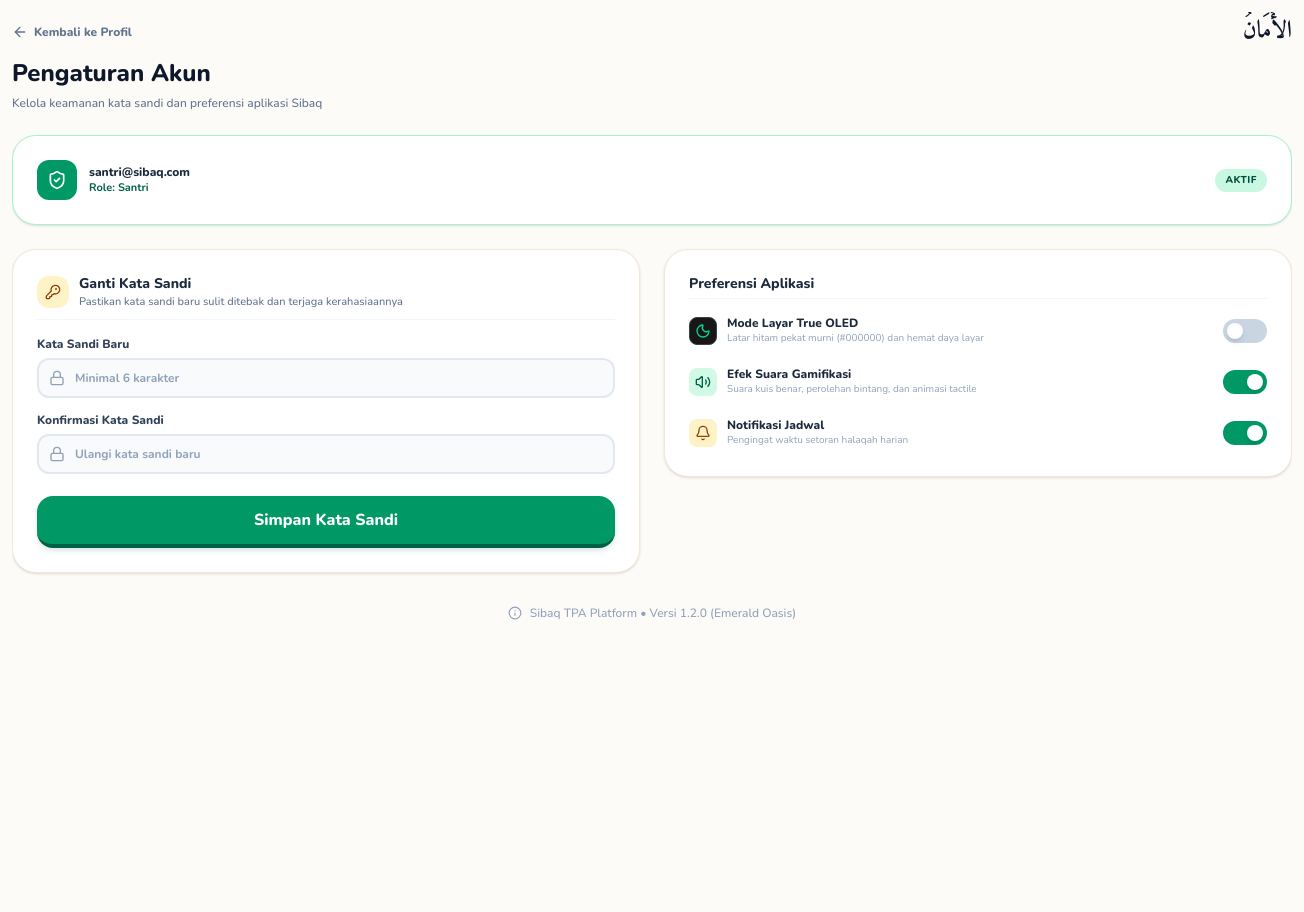
SettingsPage Component › validates password length and matching passwords
# Try too short password
In the password field labelled "Kata Sandi Baru": (326,378) x1=37 y1=358 x2=615 y2=398, type "123"
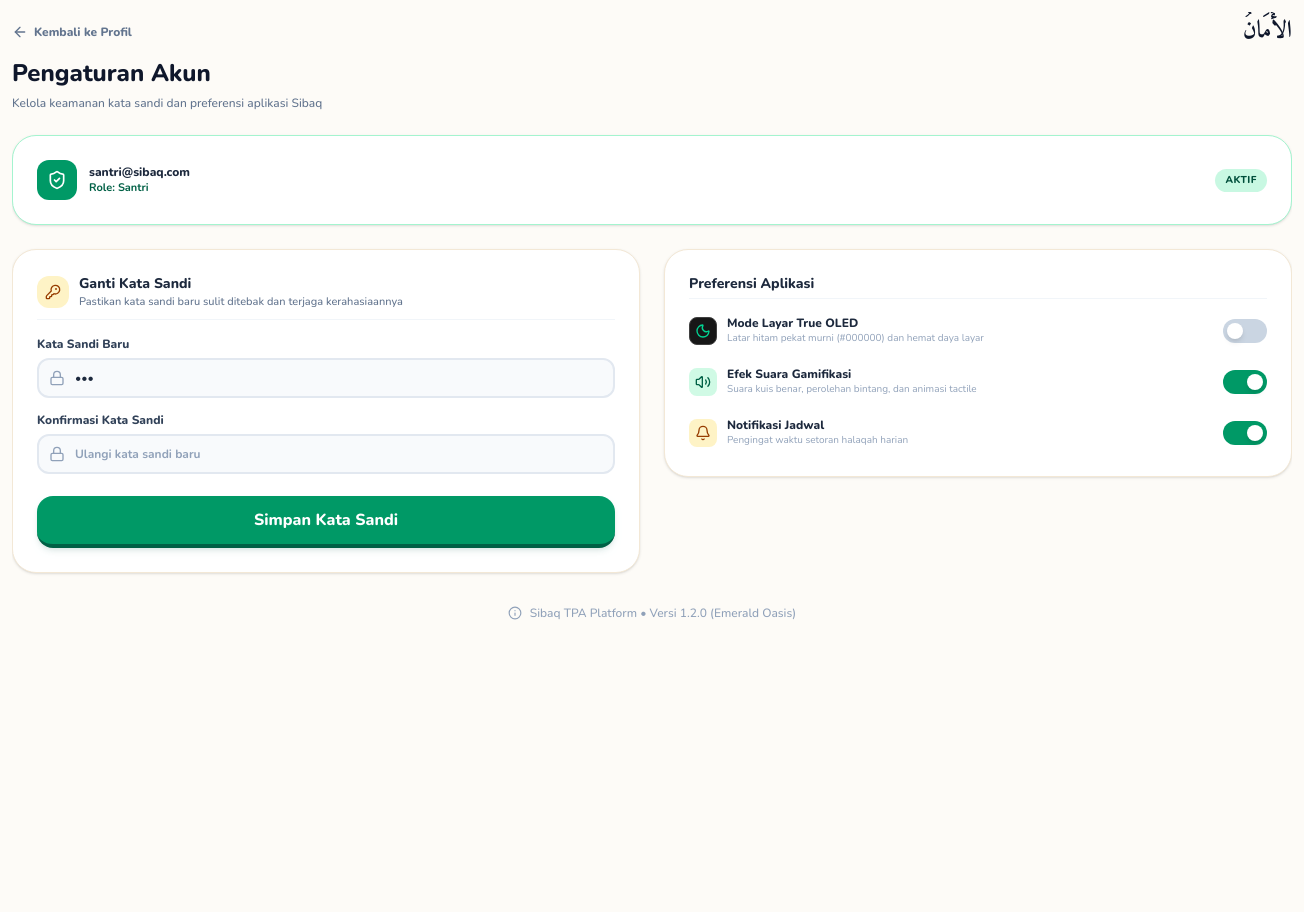
In the password field labelled "Konfirmasi Kata Sandi": (326,454) x1=37 y1=434 x2=615 y2=474, type "123"
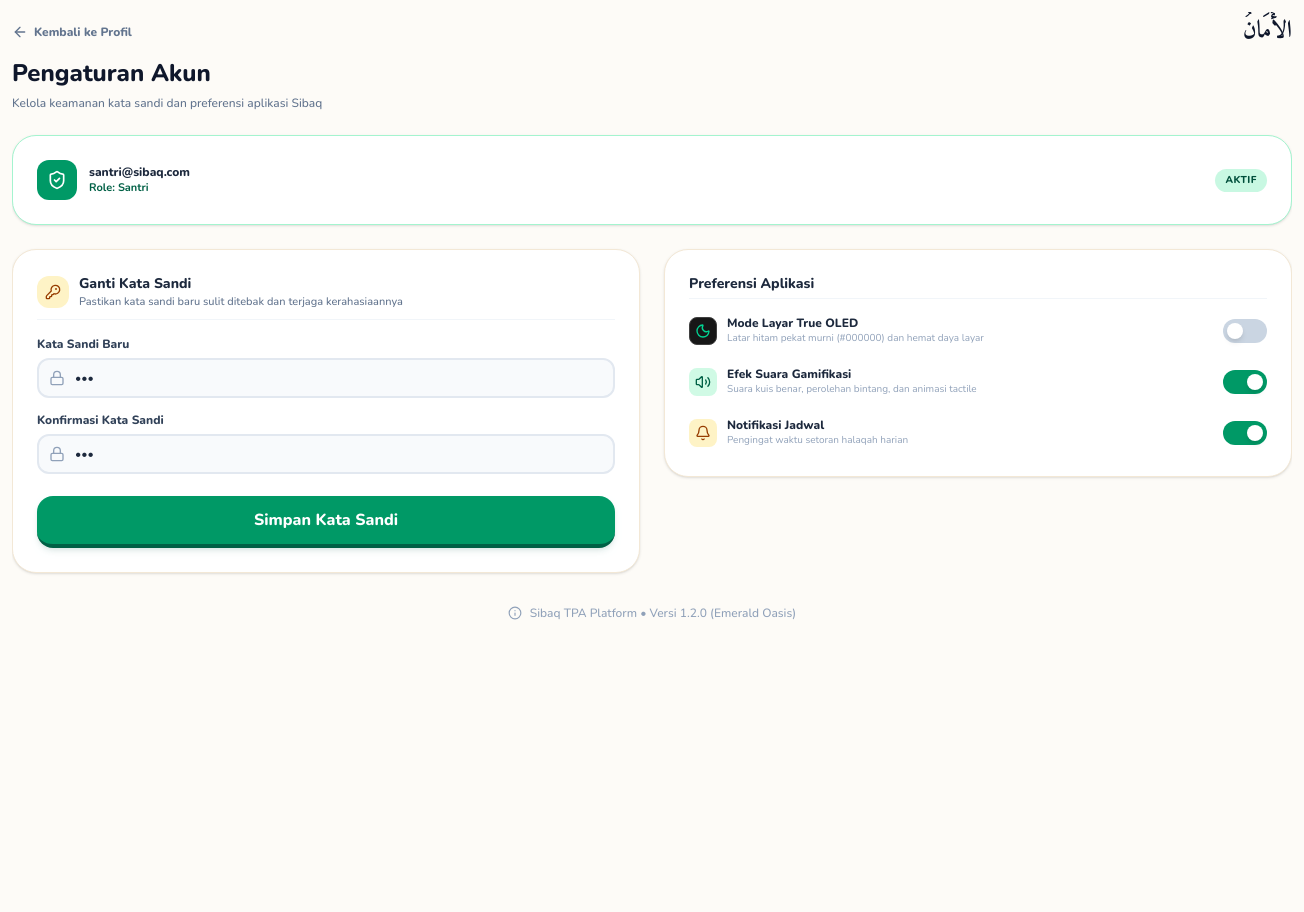
Click the button "Simpan Kata Sandi": (326,522) x1=37 y1=496 x2=615 y2=548
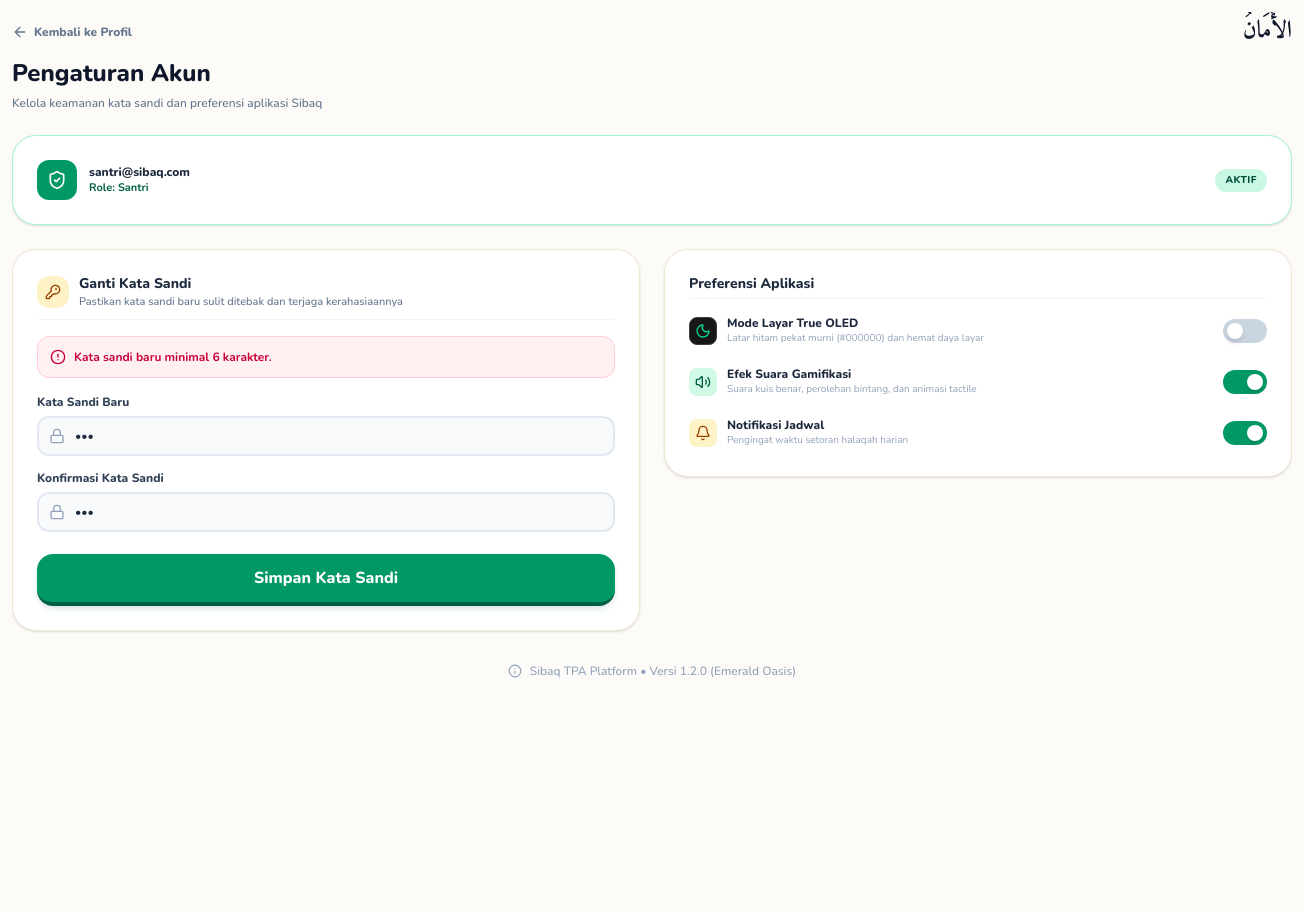
Expected: the text "Kata sandi baru minimal 6 karakter." is shown, x1=74 y1=348 x2=272 y2=364
# Try mismatched passwords
In the password field labelled "Kata Sandi Baru": (326,436) x1=37 y1=416 x2=615 y2=456, type "password123"
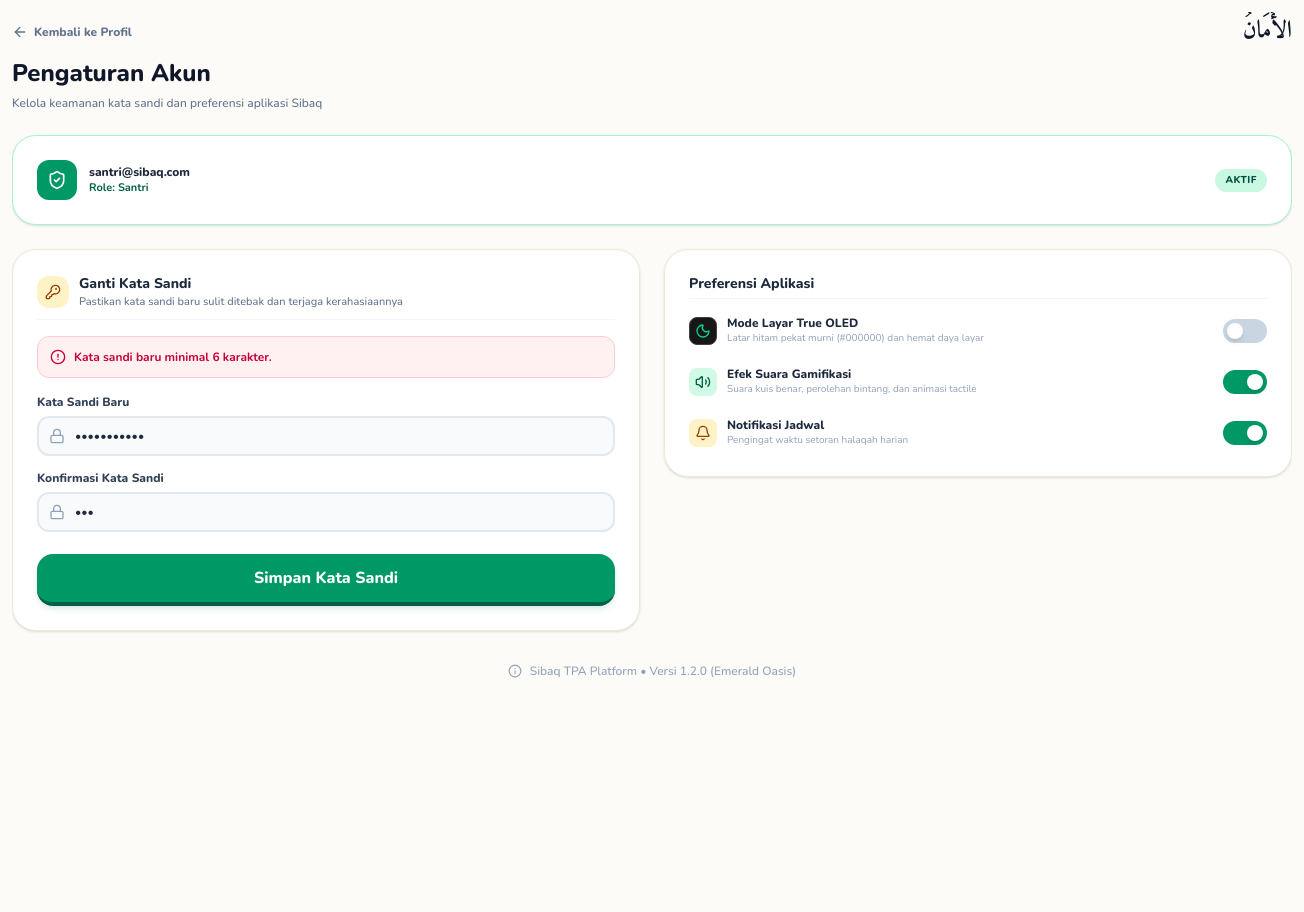
In the password field labelled "Konfirmasi Kata Sandi": (326,512) x1=37 y1=492 x2=615 y2=532, type "password456"
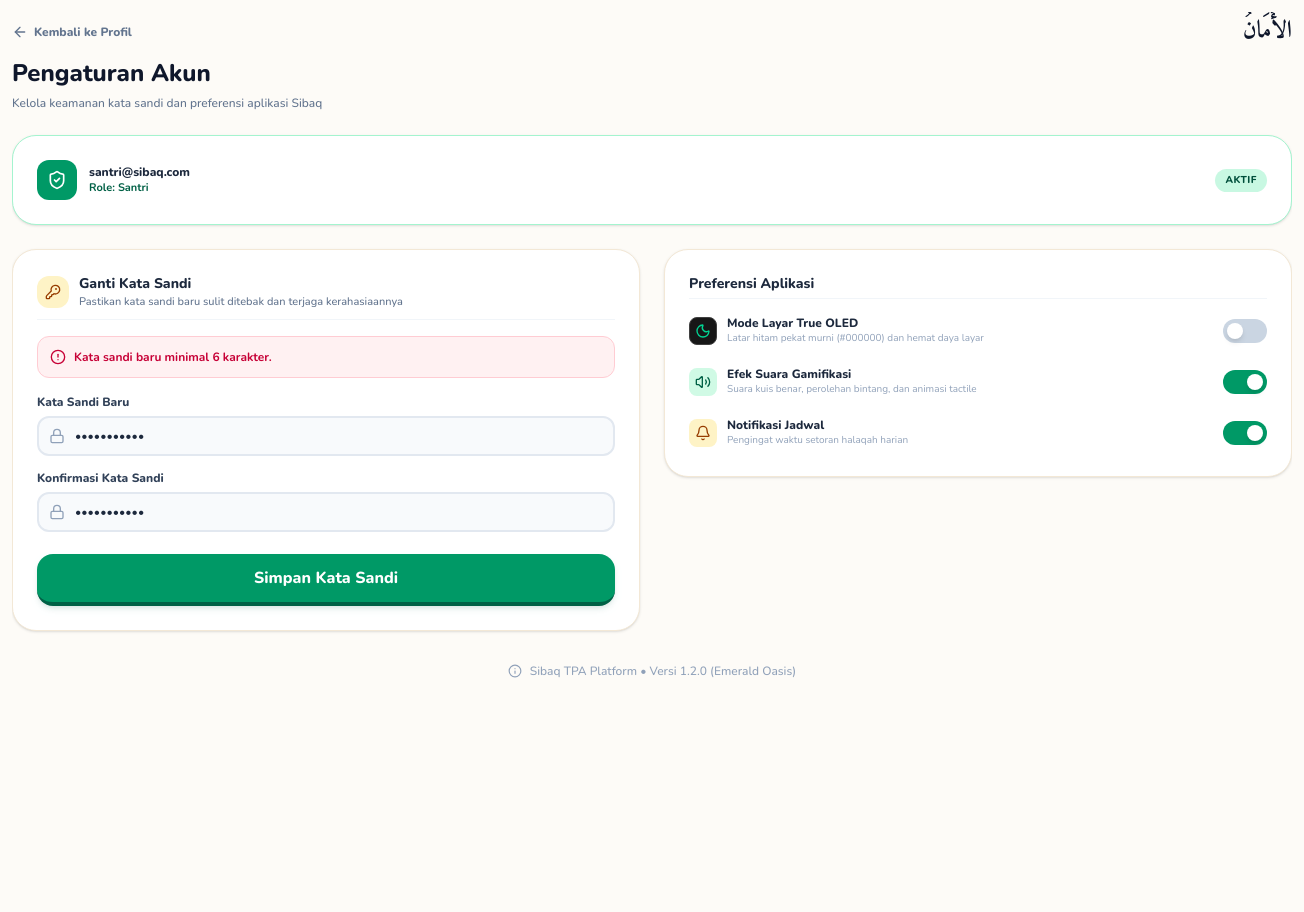
Click the button "Simpan Kata Sandi": (326,580) x1=37 y1=554 x2=615 y2=606
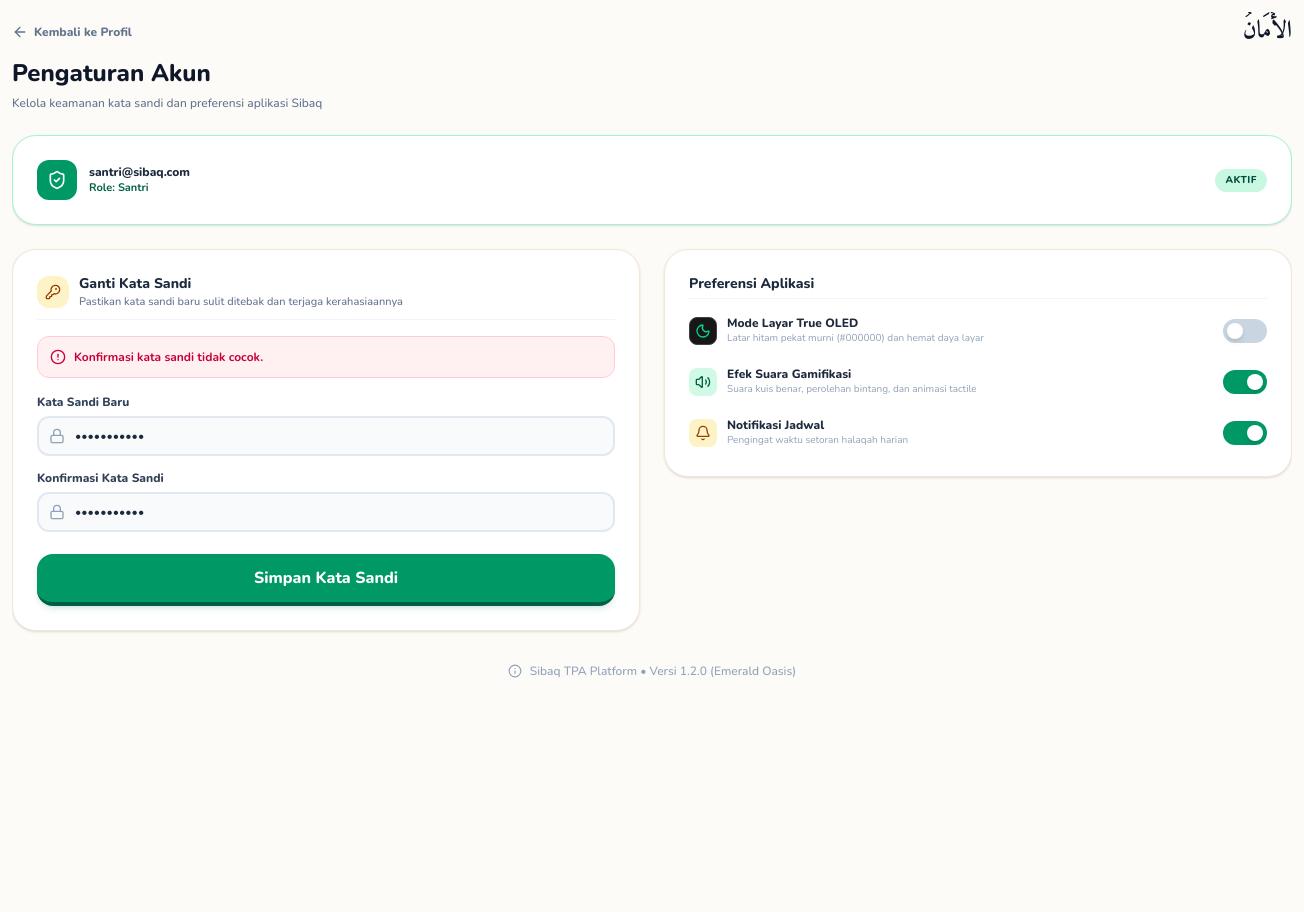
Expected: the text "Konfirmasi kata sandi tidak cocok." is shown, x1=74 y1=348 x2=263 y2=364
